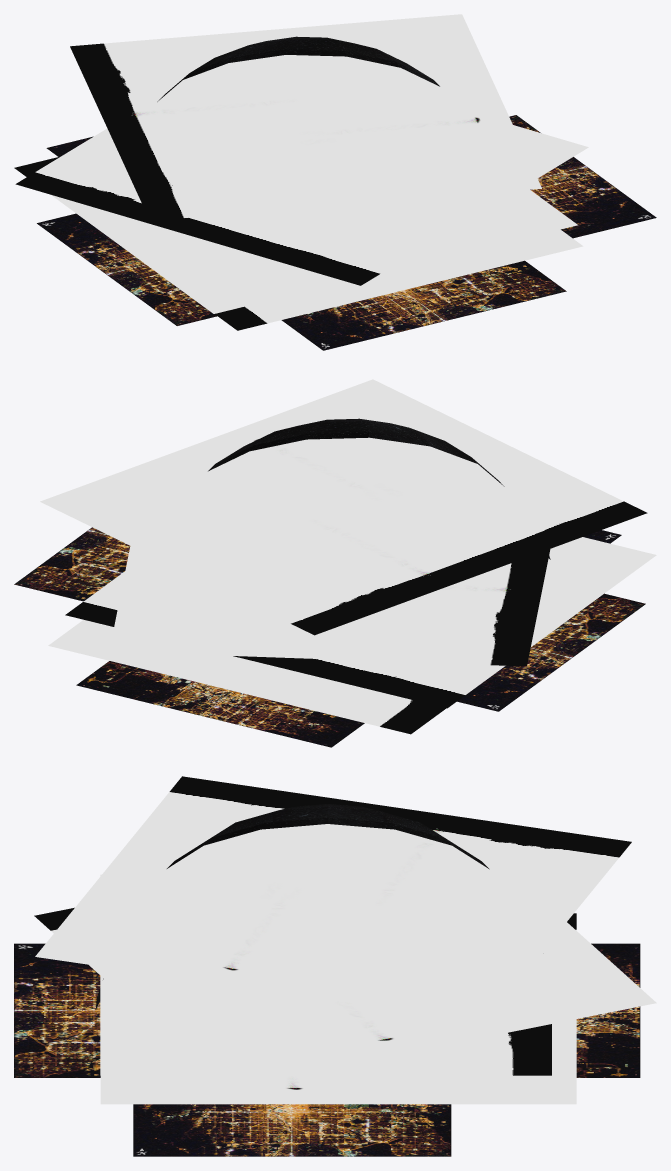
File: city.fbx
3 views of the same model, one above another, from view 1: azimuth 30°, elevation 25°; view 2: azimuth 150°, elevation 25°; view 3: azimuth 270°, elevation 25° (orthographic). The views are drawn at different scales.
Parts seen in each view (by area): view 1: fog01.002, fog01.003, fog01, Plane.002, fog01.001, Plane.004, Plane.003, Sphere; view 2: fog01.002, fog01.003, fog01, fog01.001, Plane.001, Plane.004, Plane.003, Sphere; view 3: fog01.002, fog01.003, Plane.003, fog01.001, fog01, Plane.002, Plane.001, Sphere.
Boxes of the visible parts, left/top/right/bottom form: fog01.002: left=70, top=14, right=541, bottom=220; fog01.003: left=15, top=125, right=588, bottom=285; fog01: left=14, top=156, right=577, bottom=313; Plane.002: left=281, top=260, right=566, bottom=350; fog01.001: left=215, top=229, right=583, bottom=330; Plane.004: left=37, top=213, right=217, bottom=325; Plane.003: left=509, top=115, right=656, bottom=238; Sphere: left=157, top=36, right=439, bottom=101; fog01.002: left=40, top=379, right=647, bottom=635; fog01.003: left=109, top=546, right=550, bottom=666; fog01: left=65, top=537, right=656, bottom=708; fog01.001: left=48, top=620, right=445, bottom=734; Plane.001: left=76, top=661, right=364, bottom=747; Plane.004: left=457, top=593, right=645, bottom=711; Plane.003: left=14, top=527, right=130, bottom=601; Sphere: left=208, top=418, right=550, bottom=559; fog01.002: left=35, top=776, right=631, bottom=1022; fog01.003: left=34, top=907, right=656, bottom=1088; Plane.003: left=133, top=1104, right=451, bottom=1156; fog01.001: left=100, top=913, right=576, bottom=1104; fog01: left=100, top=874, right=551, bottom=1075; Plane.002: left=14, top=943, right=100, bottom=1077; Plane.001: left=576, top=943, right=640, bottom=1077; Sphere: left=95, top=804, right=489, bottom=1009.
Bounding box in the file's own units: 178611 × 65073 × 177690.
18 materials, 17 textured.
